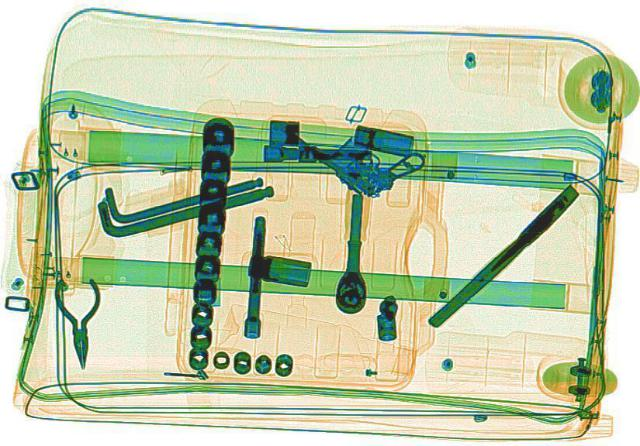Gun: (282, 90, 434, 203)
Pliers: (52, 275, 108, 368)
